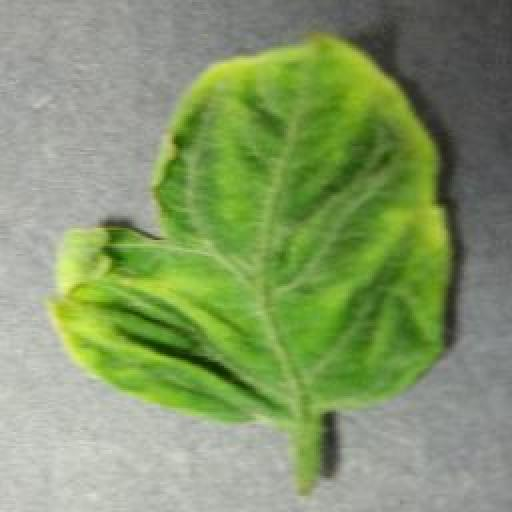Yellow Leaf Curl Virus: (50, 36, 460, 424)
